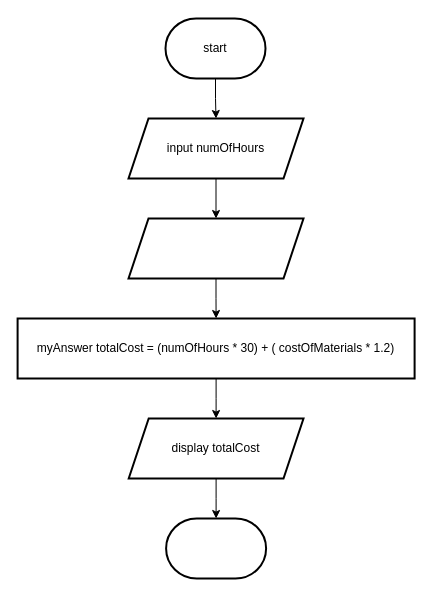
Some shapes in this 433 by 596 pixel diagram are drawn without their labels. Each missing label, with the centre of its shape:
end: (216,548)
input costOfMaterials: (215,248)
